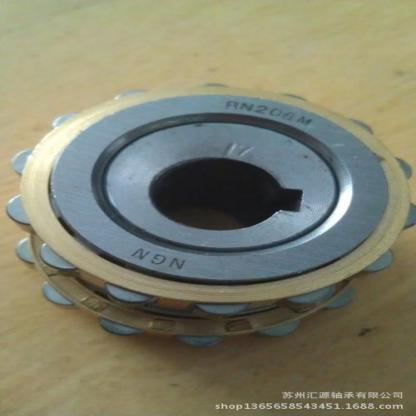FOD: (6, 78, 415, 320)
